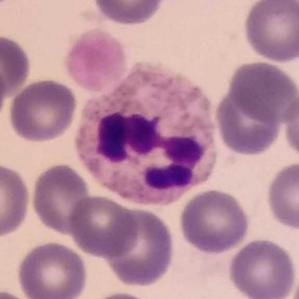Neutrophil: (69, 60, 224, 212)
RBC: (102, 205, 177, 288), (212, 84, 285, 157), (177, 187, 252, 255), (6, 77, 80, 144), (28, 161, 93, 237), (66, 193, 140, 258), (60, 26, 130, 93), (226, 58, 299, 122), (224, 236, 296, 299), (15, 239, 90, 299), (240, 0, 299, 64), (0, 160, 33, 240), (263, 160, 299, 231), (0, 32, 33, 100), (90, 0, 168, 27), (281, 90, 299, 162), (84, 289, 157, 299), (0, 287, 38, 298)
